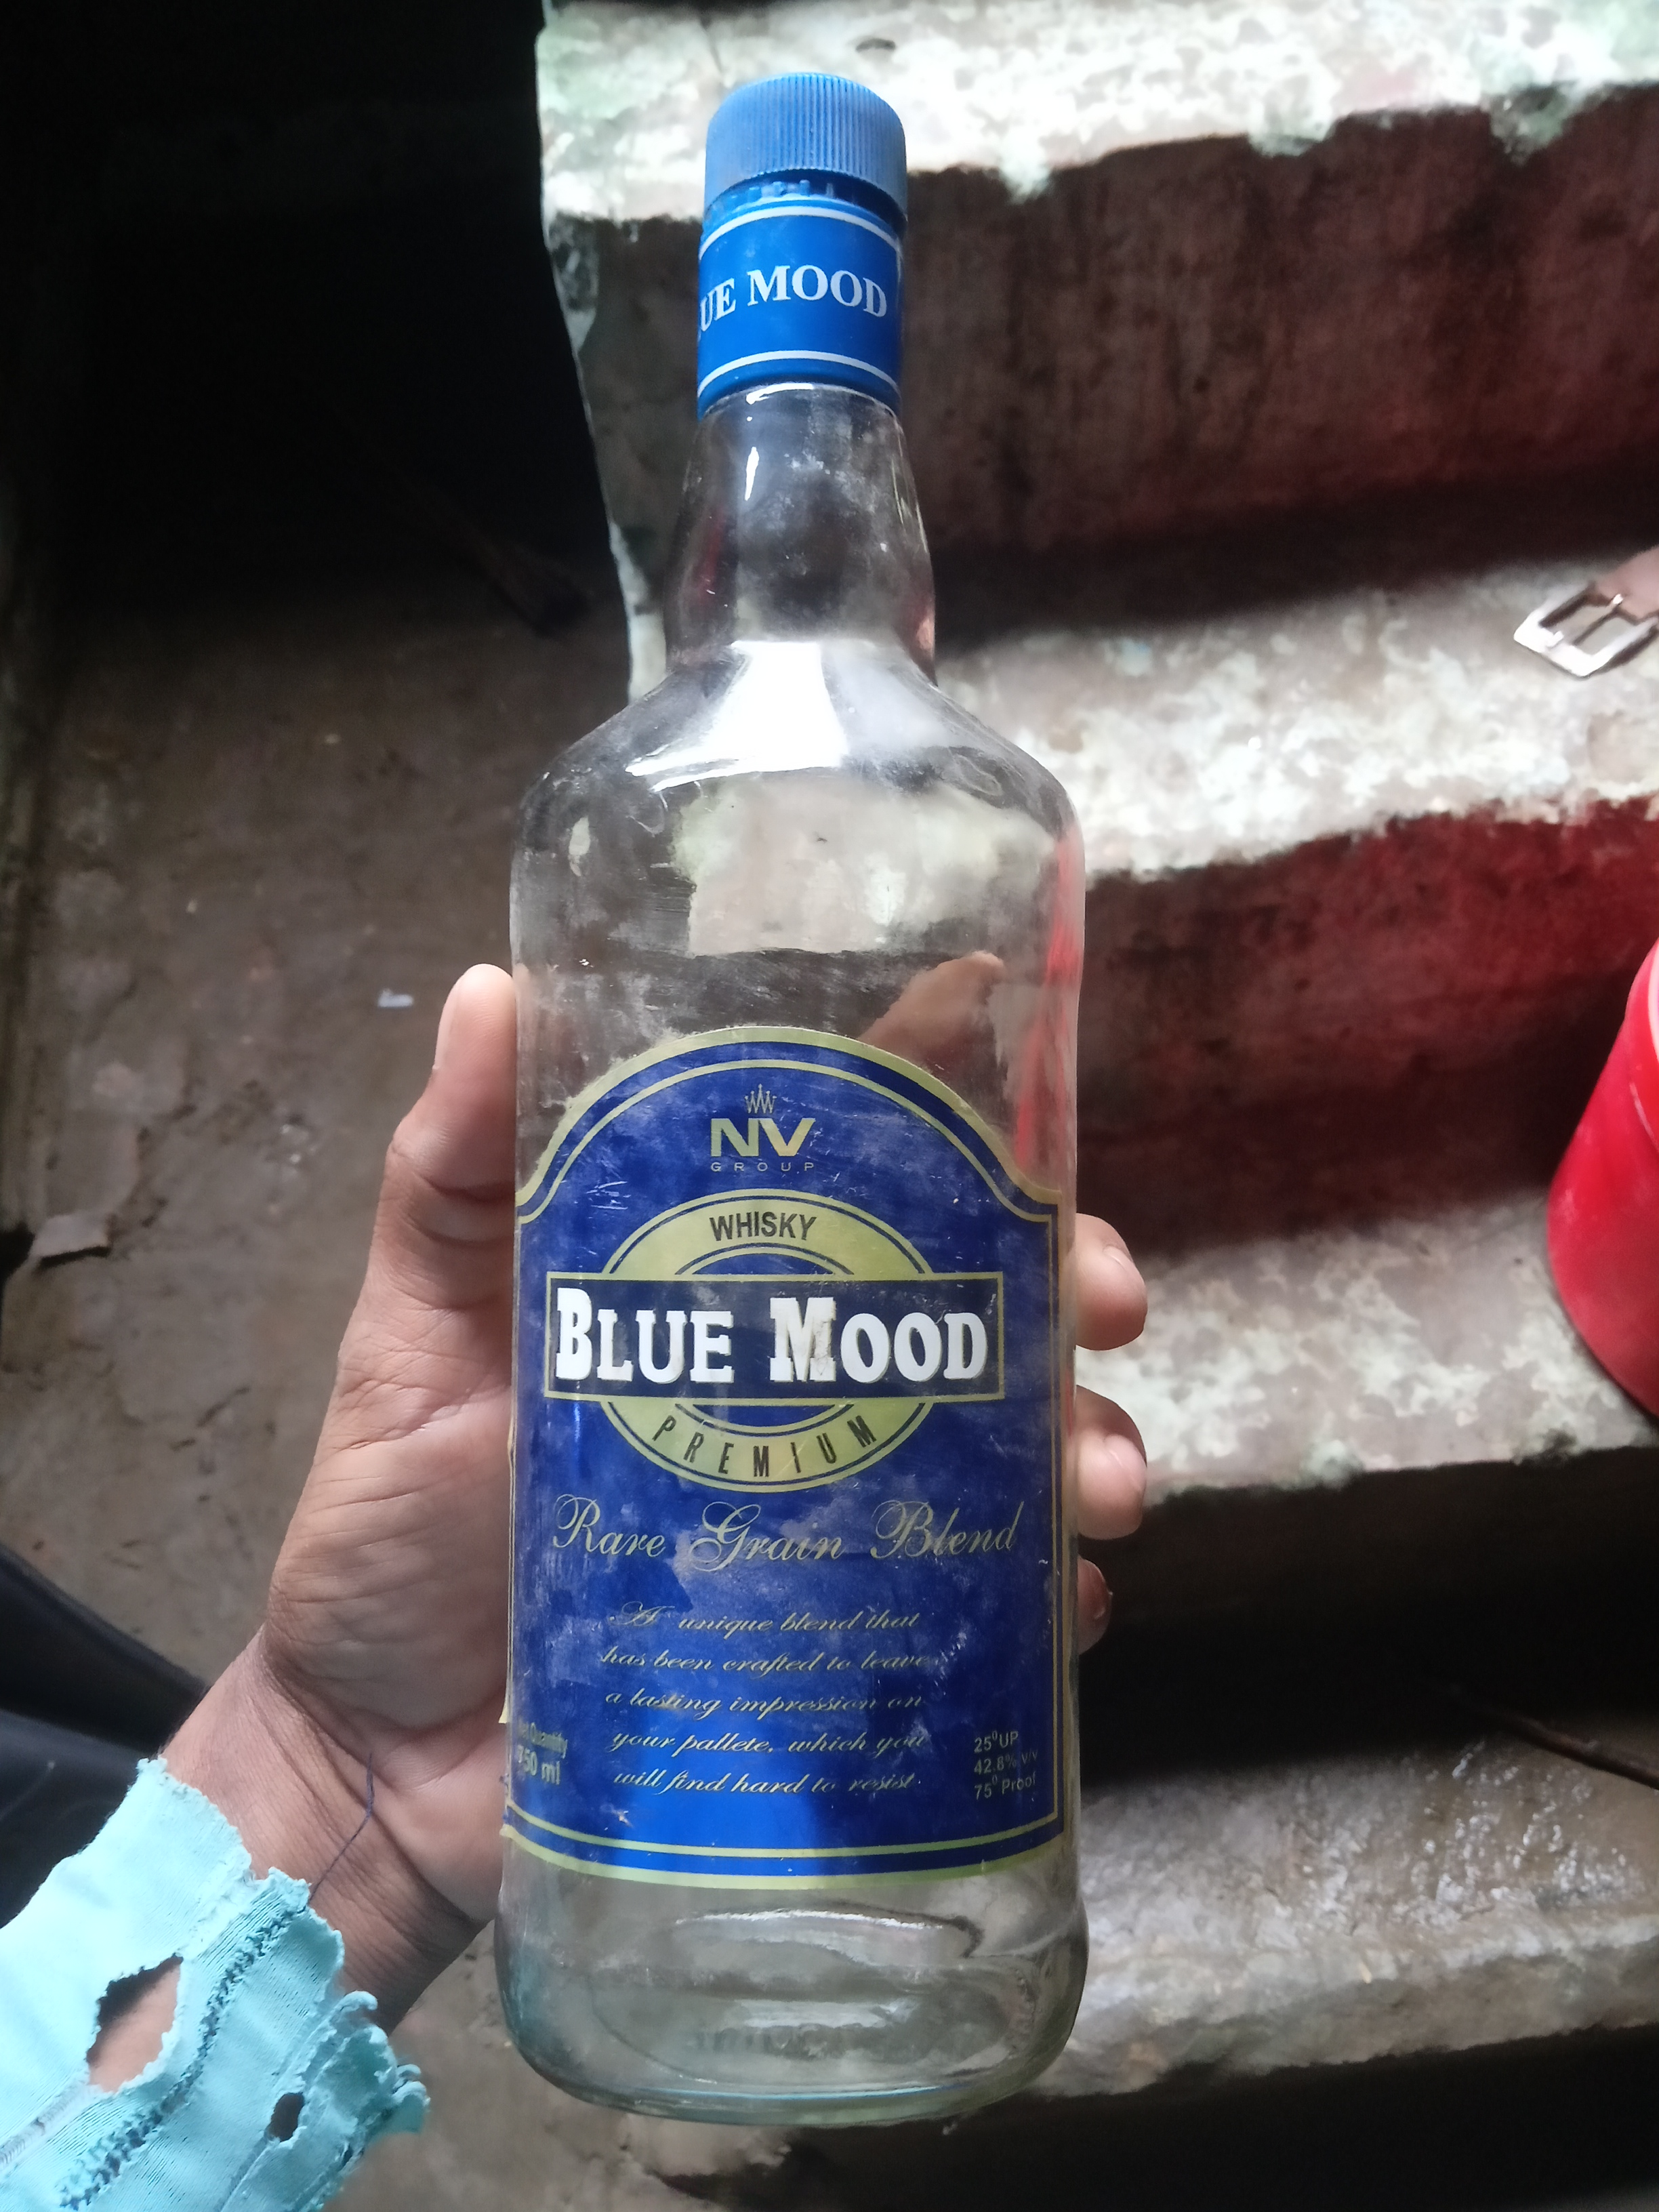glass_bottle: (467, 54, 1107, 2165)
